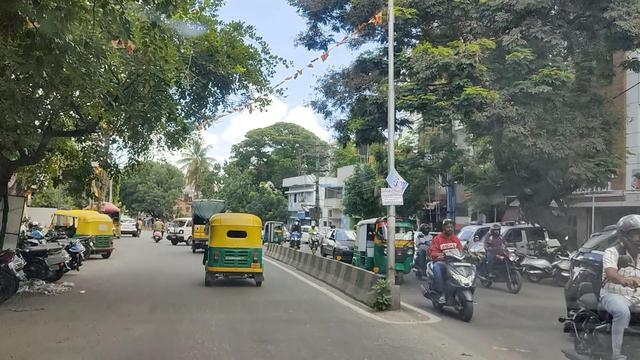LMV: (426, 223, 488, 333), (208, 213, 264, 279)
